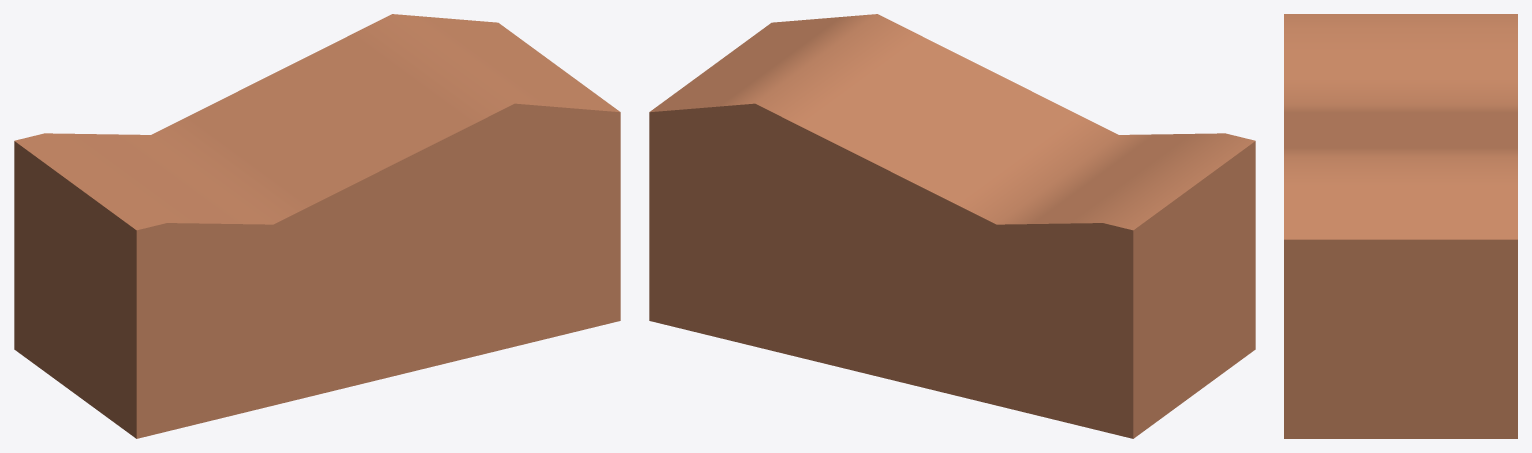
3 views of the same model, side by side, from view 1: azimuth 30°, elevation 25°; view 2: azimuth 150°, elevation 25°; view 3: azimuth 270°, elevation 25° (orthographic). The views are drawn at different scales.
Visible parts, largest first — view 1: pCube5; view 2: pCube5; view 3: pCube5.
Part boxes in pixels (<box>): pCube5: <box>14,14,620,438</box>; pCube5: <box>649,14,1255,438</box>; pCube5: <box>1284,14,1517,438</box>.
Bounding box in the file's own units: 3.75 × 1.8 × 1.64.
